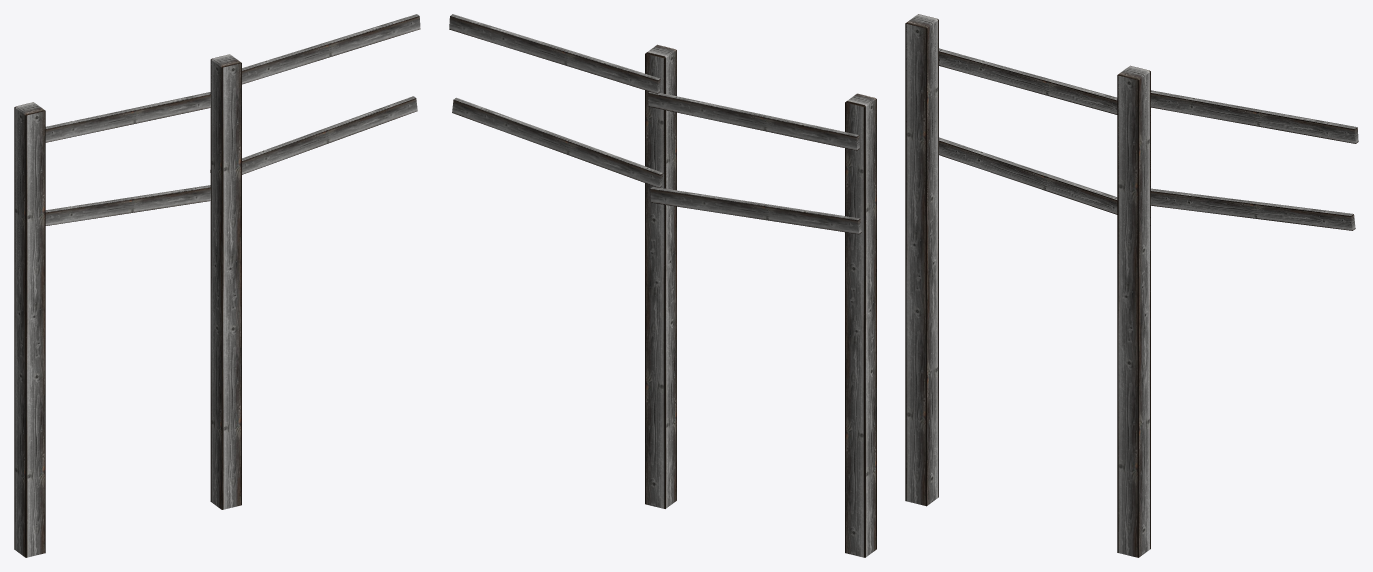
The model's file is OldFenceSeg.FBX.
The picture shows the model from 3 angles, left to right: view 1: azimuth 30°, elevation 25°; view 2: azimuth 150°, elevation 25°; view 3: azimuth 330°, elevation 25°; orthographic projection. The views are drawn at different scales.
Visible parts, largest first — view 1: Box001, Box007, Box004, Box012, Box005, Box010, Box003, Box002; view 2: Box001, Box007, Box012, Box010, Box005, Box003, Box002, Box004; view 3: Box001, Box007, Box005, Box010, Box002, Box003, Box004, Box012.
Boxes of the visible parts, left/top/right/bottom form: Box001: left=14, top=102, right=45, bottom=557; Box007: left=210, top=54, right=241, bottom=509; Box004: left=210, top=60, right=241, bottom=233; Box012: left=14, top=108, right=45, bottom=281; Box005: left=242, top=14, right=420, bottom=84; Box010: left=210, top=96, right=417, bottom=174; Box003: left=45, top=92, right=210, bottom=142; Box002: left=45, top=185, right=210, bottom=225; Box001: left=845, top=93, right=876, bottom=557; Box007: left=645, top=44, right=676, bottom=508; Box012: left=845, top=99, right=876, bottom=275; Box010: left=452, top=97, right=663, bottom=187; Box005: left=449, top=14, right=660, bottom=93; Box003: left=648, top=91, right=859, bottom=150; Box002: left=650, top=187, right=861, bottom=234; Box004: left=645, top=52, right=676, bottom=226; Box001: left=905, top=14, right=938, bottom=506; Box007: left=1117, top=65, right=1150, bottom=557; Box005: left=1150, top=90, right=1358, bottom=143; Box010: left=1150, top=188, right=1355, bottom=230; Box002: left=939, top=137, right=1117, bottom=214; Box003: left=939, top=48, right=1117, bottom=114; Box004: left=1117, top=72, right=1150, bottom=258; Box012: left=906, top=20, right=938, bottom=204.
Size of the model in its own units: 5.12 by 5.35 by 0.3037.
1 material, 1 textured.
